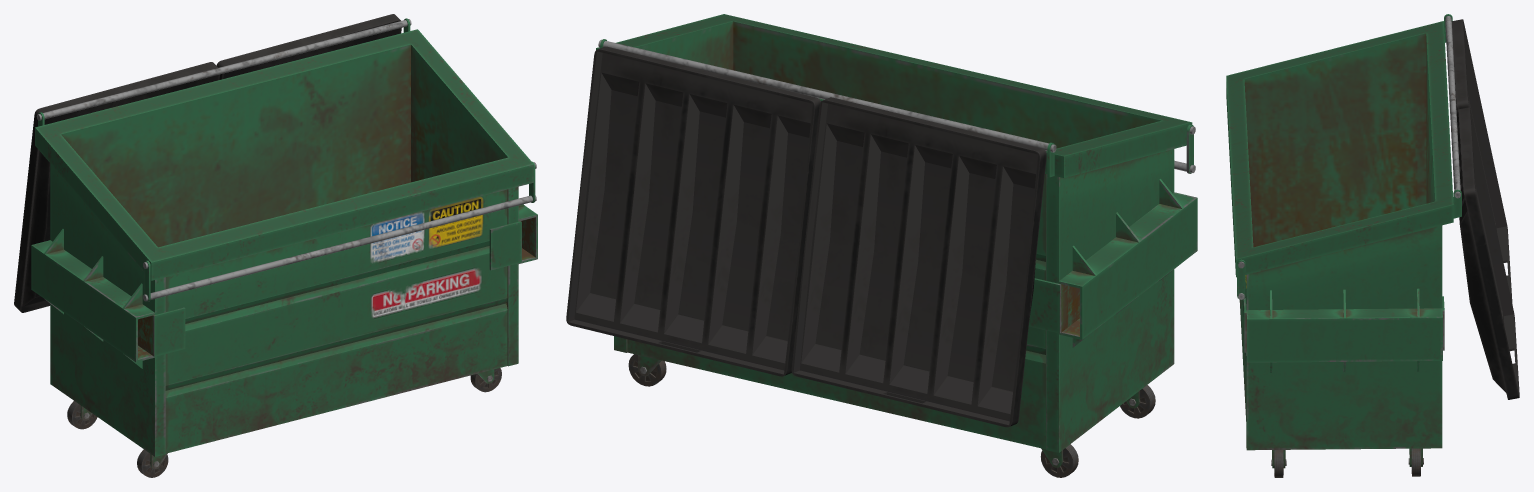
File: DDOpenLid.glb
The picture shows the model from 3 angles, left to right: view 1: azimuth 30°, elevation 25°; view 2: azimuth 150°, elevation 25°; view 3: azimuth 270°, elevation 25°; orthographic projection. The views are drawn at different scales.
Visible parts, largest first — view 1: Base_02_Dumpster_02_0, Cap_04_Dumpster_02_0, Cap_04_Dumpster_02_0.001, Wheel_08_Dumpster_02_0, Wheel_07_Dumpster_02_0, Wheel_05_Dumpster_02_0; view 2: Base_02_Dumpster_02_0, Cap_04_Dumpster_02_0, Cap_04_Dumpster_02_0.001, Wheel_06_Dumpster_02_0, Wheel_07_Dumpster_02_0, Wheel_08_Dumpster_02_0; view 3: Base_02_Dumpster_02_0, Cap_04_Dumpster_02_0.001, Cap_04_Dumpster_02_0, Wheel_06_Dumpster_02_0, Wheel_05_Dumpster_02_0.
Part boxes in pixels (left/top/right/bottom): Base_02_Dumpster_02_0: left=31, top=18, right=537, bottom=456; Cap_04_Dumpster_02_0: left=14, top=62, right=219, bottom=312; Cap_04_Dumpster_02_0.001: left=216, top=14, right=401, bottom=79; Wheel_08_Dumpster_02_0: left=137, top=449, right=168, bottom=477; Wheel_07_Dumpster_02_0: left=67, top=401, right=97, bottom=429; Wheel_05_Dumpster_02_0: left=470, top=368, right=501, bottom=392; Base_02_Dumpster_02_0: left=596, top=14, right=1197, bottom=452; Cap_04_Dumpster_02_0: left=791, top=97, right=1046, bottom=427; Cap_04_Dumpster_02_0.001: left=566, top=46, right=820, bottom=376; Wheel_06_Dumpster_02_0: left=628, top=354, right=666, bottom=386; Wheel_07_Dumpster_02_0: left=1040, top=444, right=1078, bottom=477; Wheel_08_Dumpster_02_0: left=1120, top=385, right=1155, bottom=418; Base_02_Dumpster_02_0: left=1226, top=14, right=1461, bottom=450; Cap_04_Dumpster_02_0.001: left=1458, top=107, right=1519, bottom=399; Cap_04_Dumpster_02_0: left=1451, top=19, right=1512, bottom=304; Wheel_06_Dumpster_02_0: left=1408, top=448, right=1423, bottom=476; Wheel_05_Dumpster_02_0: left=1271, top=450, right=1286, bottom=477.
Bounding box in the file's own units: 2.12 × 1.48 × 1.35.
Materials: 2 (2 with a texture image).
